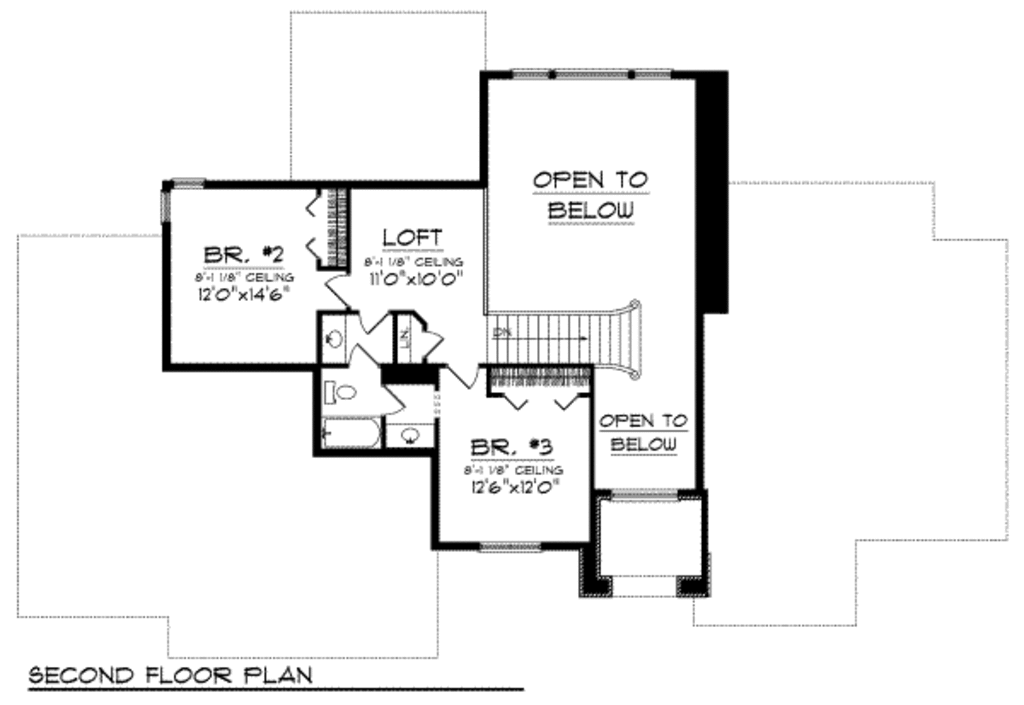door: (321, 270, 355, 309), (414, 318, 444, 358), (446, 361, 479, 391), (347, 342, 379, 367), (356, 311, 389, 335), (383, 383, 408, 413)
large_sink: (321, 379, 361, 407)
small_sink: (380, 421, 442, 447), (319, 313, 349, 365)
stairs: (487, 292, 649, 380)
tub: (319, 418, 384, 448)
window: (511, 67, 675, 81), (604, 487, 682, 502), (475, 541, 547, 555), (158, 186, 179, 229), (162, 176, 216, 190)
